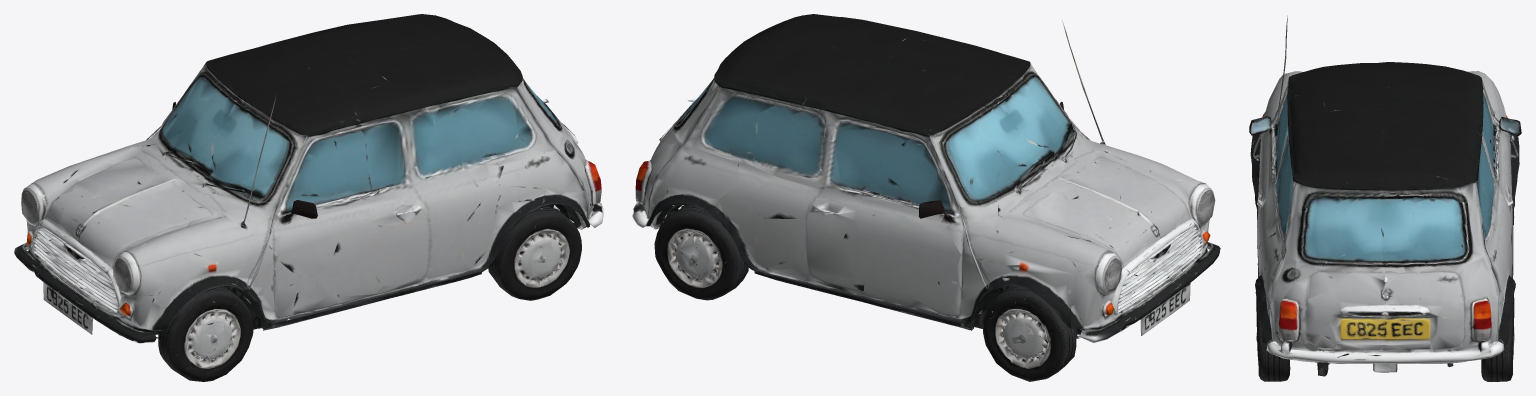
File: mini-SHRINK.glb
3 renders of one model, left to right at view 1: azimuth 30°, elevation 25°; view 2: azimuth 150°, elevation 25°; view 3: azimuth 270°, elevation 25°, orthographic. The views are drawn at different scales.
Visible parts, largest first — view 1: object 1, Wheel_FL, Wheel_RL; view 2: object 1, Wheel_FR, Wheel_RR; view 3: object 1, Wheel_RR, Wheel_RL.
Boxes of the visible parts, bbox=[...] form: object 1: bbox=[14, 14, 603, 343]; Wheel_FL: bbox=[158, 287, 253, 381]; Wheel_RL: bbox=[488, 204, 581, 300]; object 1: bbox=[632, 14, 1220, 342]; Wheel_FR: bbox=[983, 286, 1077, 381]; Wheel_RR: bbox=[654, 205, 748, 300]; object 1: bbox=[1249, 15, 1521, 376]; Wheel_RR: bbox=[1481, 298, 1514, 381]; Wheel_RL: bbox=[1256, 296, 1290, 381].
Bounding box in the file's own units: 1.9 × 0.9524 × 0.9493.
1 material, 1 textured.
